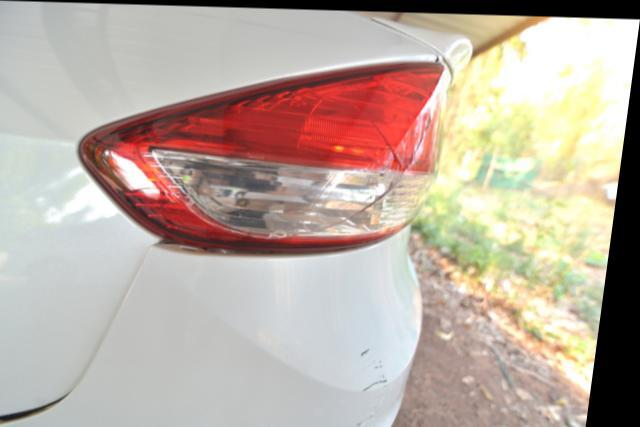lamp broken: (83, 58, 452, 250)
scratch: (365, 339, 401, 427)
